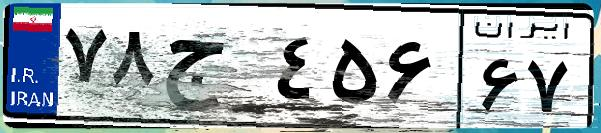4: (270, 28, 330, 110)
5: (330, 28, 385, 110)
6: (385, 28, 445, 110), (475, 38, 525, 113)
7: (57, 26, 110, 100), (525, 38, 570, 115)
8: (110, 28, 158, 98)
ج: (158, 20, 270, 120)
